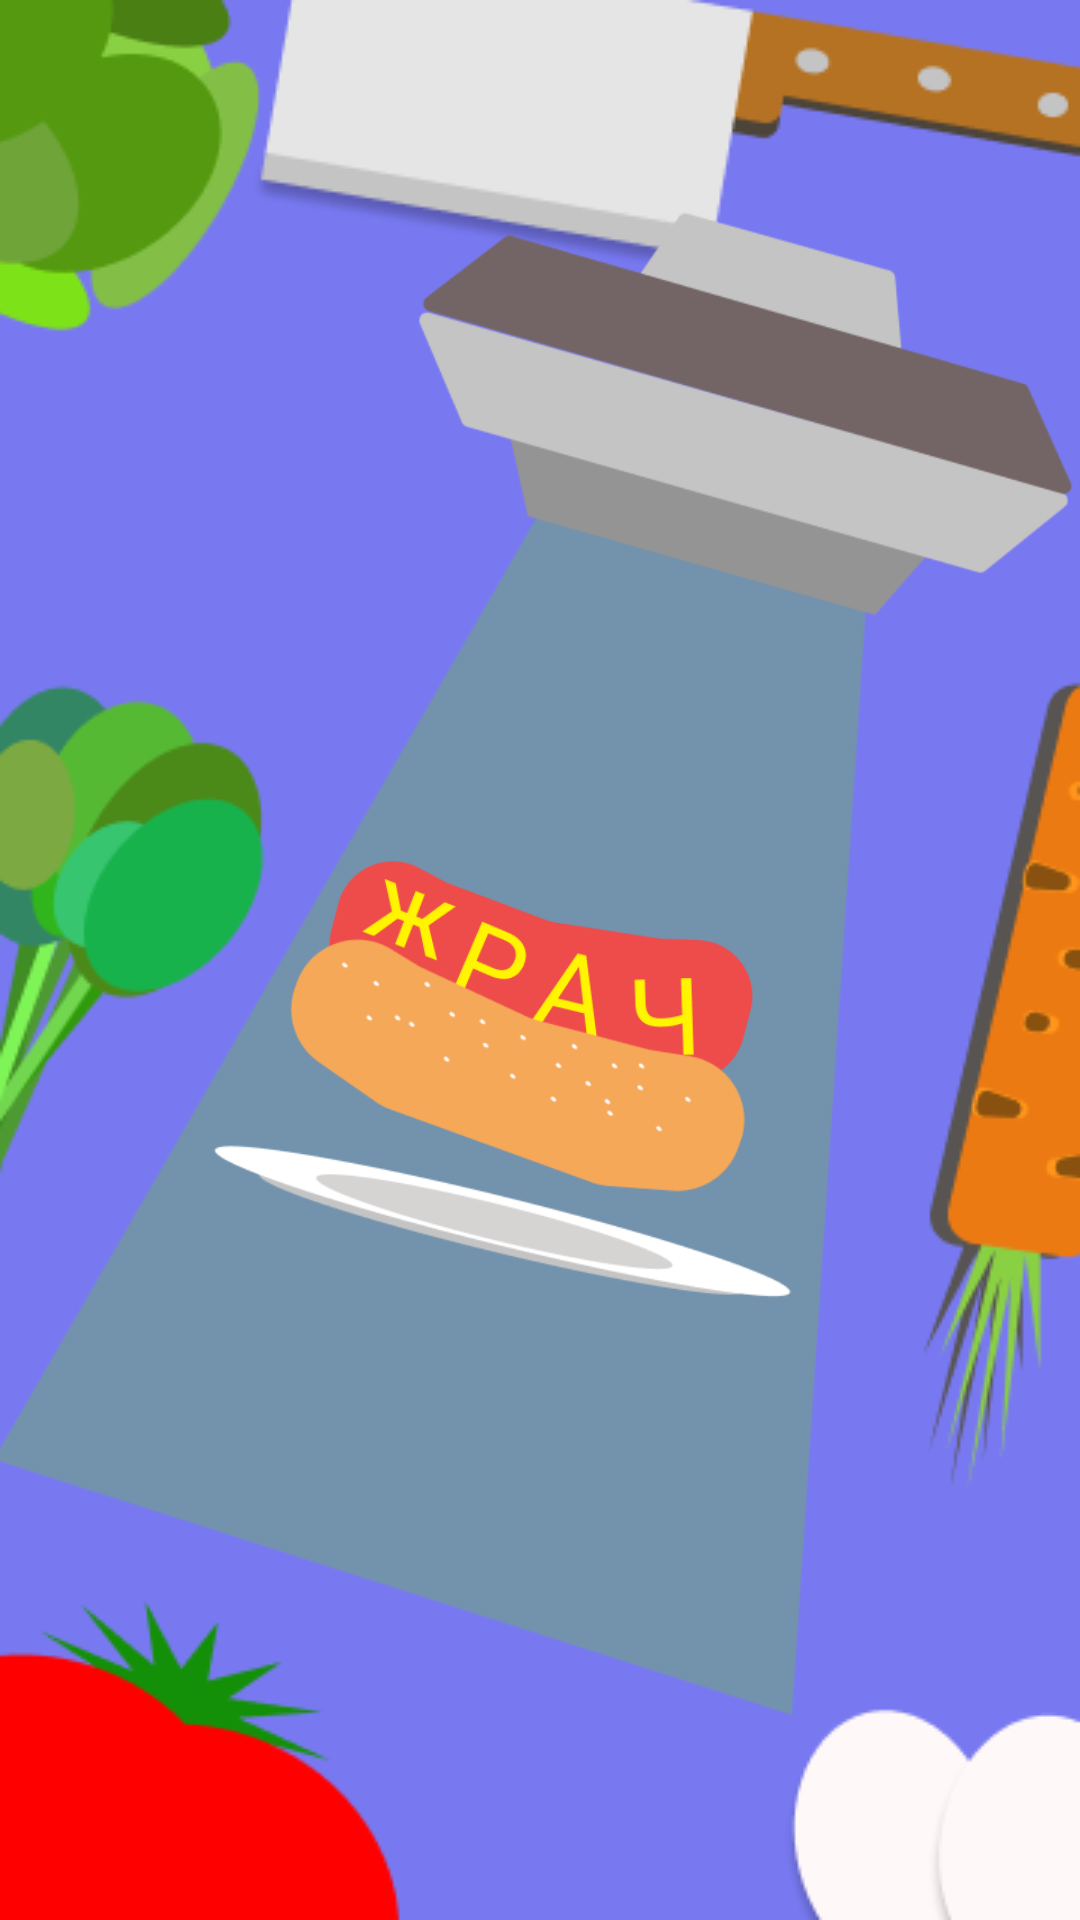

Point at icon controls on the screen. Image size 1080×1920, points as (x=x, y=y).
aggs: (x=936, y=1814)
